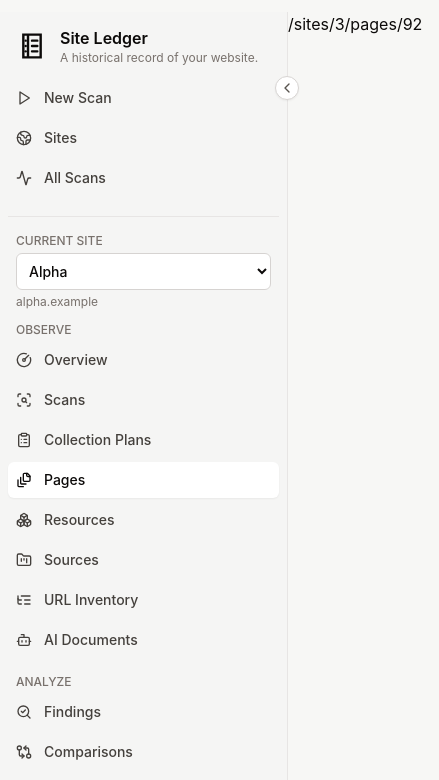
workspace navigation contract › switches from a nested Page to the other Site's Pages root
The image size is (439, 780).
Expected: the text "alpha.example" is shown, [16,294,98,309]
Step 1. Select "Beta" in the dropdown labelled "Current Site" → (144, 272), box [16,253,271,290]
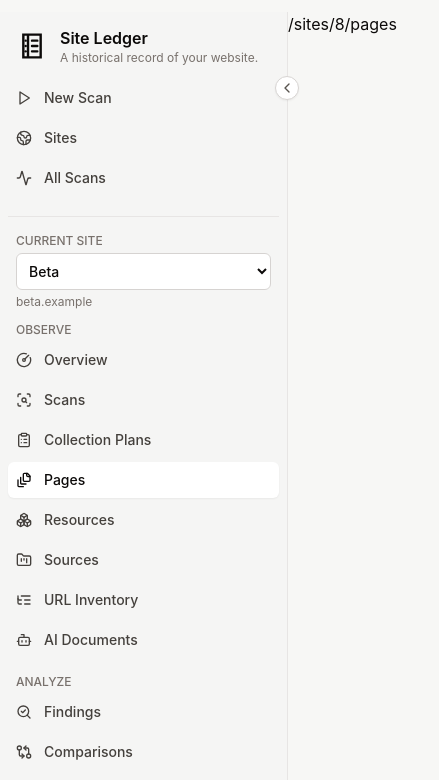
Expected: the text with test id "location" reads "/sites/8/pages", [288,14,397,34]
